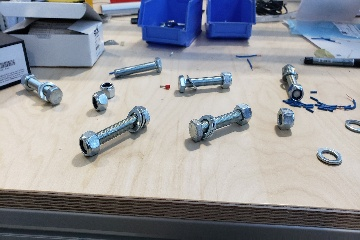Bolt: (112, 52, 165, 80)
FalseAssembly: (177, 68, 235, 94), (280, 63, 305, 103)
FinishedAssembly: (74, 103, 154, 164), (182, 97, 255, 148), (19, 70, 68, 108)
Nut: (274, 105, 296, 133), (90, 88, 109, 113)
Washer: (314, 146, 344, 168)
